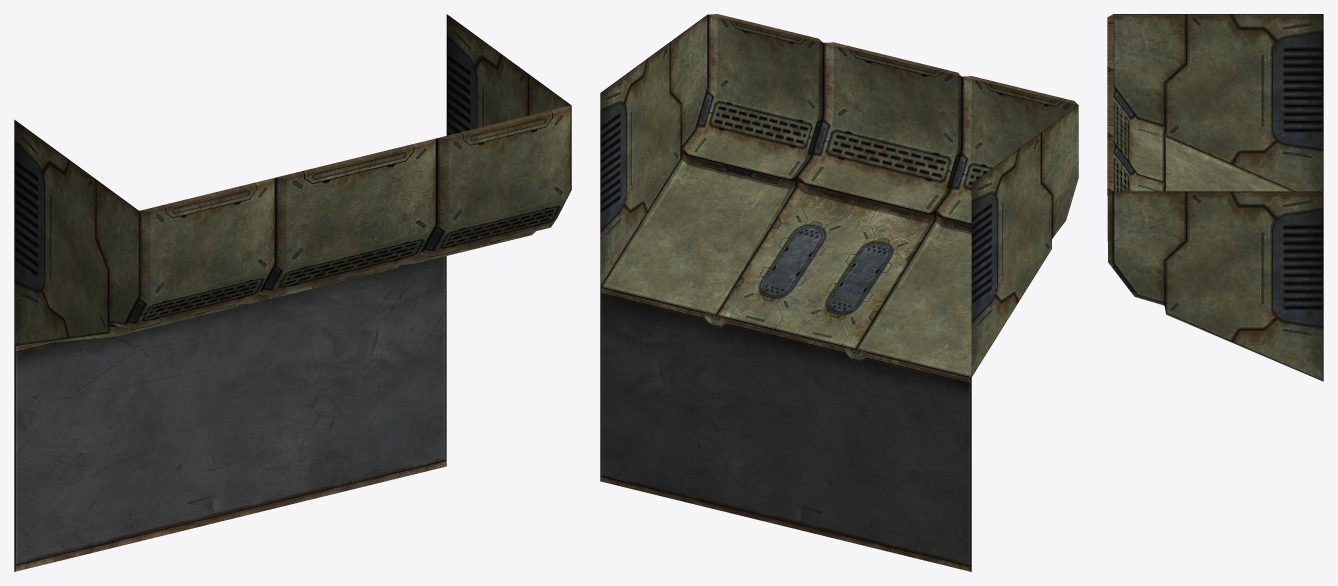
The model's file is datasite_concave_top03.dae.
The picture shows the model from 3 angles, left to right: view 1: azimuth 30°, elevation 25°; view 2: azimuth 150°, elevation 25°; view 3: azimuth 270°, elevation 25°; orthographic projection. The views are drawn at different scales.
Parts seen in each view (by area): view 1: polySurface106, polySurface105; view 2: polySurface105, polySurface106; view 3: polySurface105.
Boxes of the visible parts, x1=… form: polySurface106: x1=14, y1=256, x2=446, y2=571; polySurface105: x1=14, y1=14, x2=571, y2=345; polySurface105: x1=600, y1=14, x2=1078, y2=377; polySurface106: x1=600, y1=287, x2=971, y2=571; polySurface105: x1=1107, y1=14, x2=1323, y2=381.
Size of the model in its own units: 4 by 4 by 2.06.
